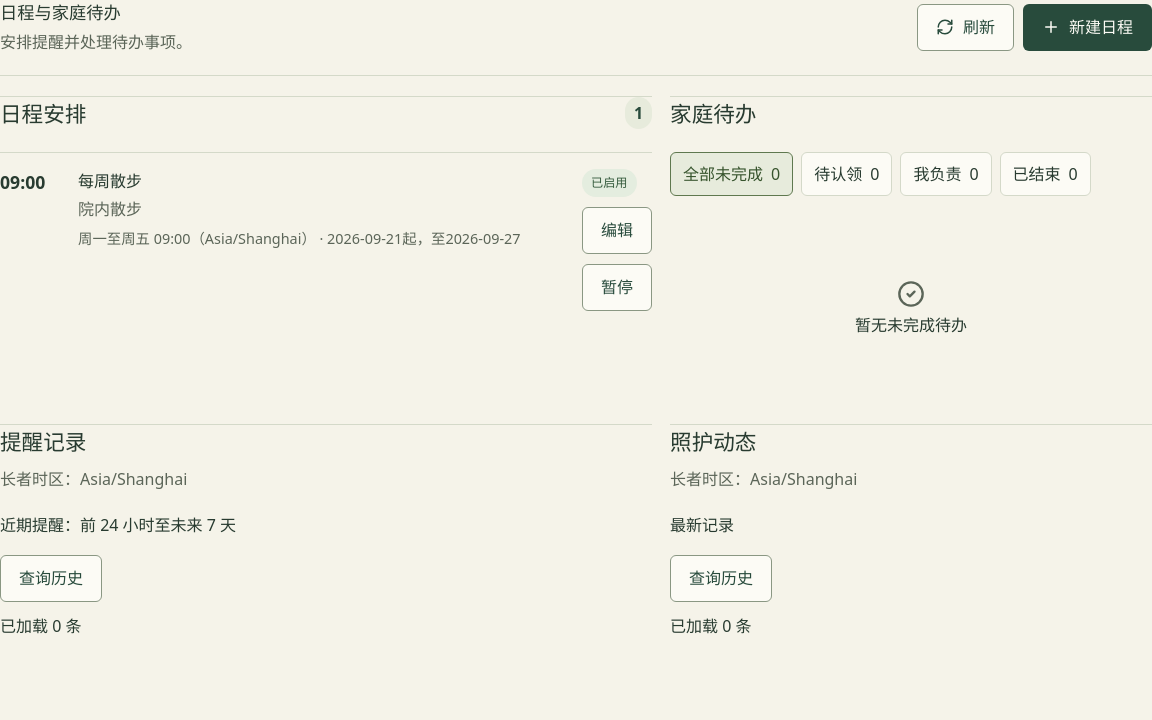
Test: independent routine and task loading › discards an old successful receipt and shows the authoritative current version
Click the button "暂停": (617, 287) [582,264,652,311]
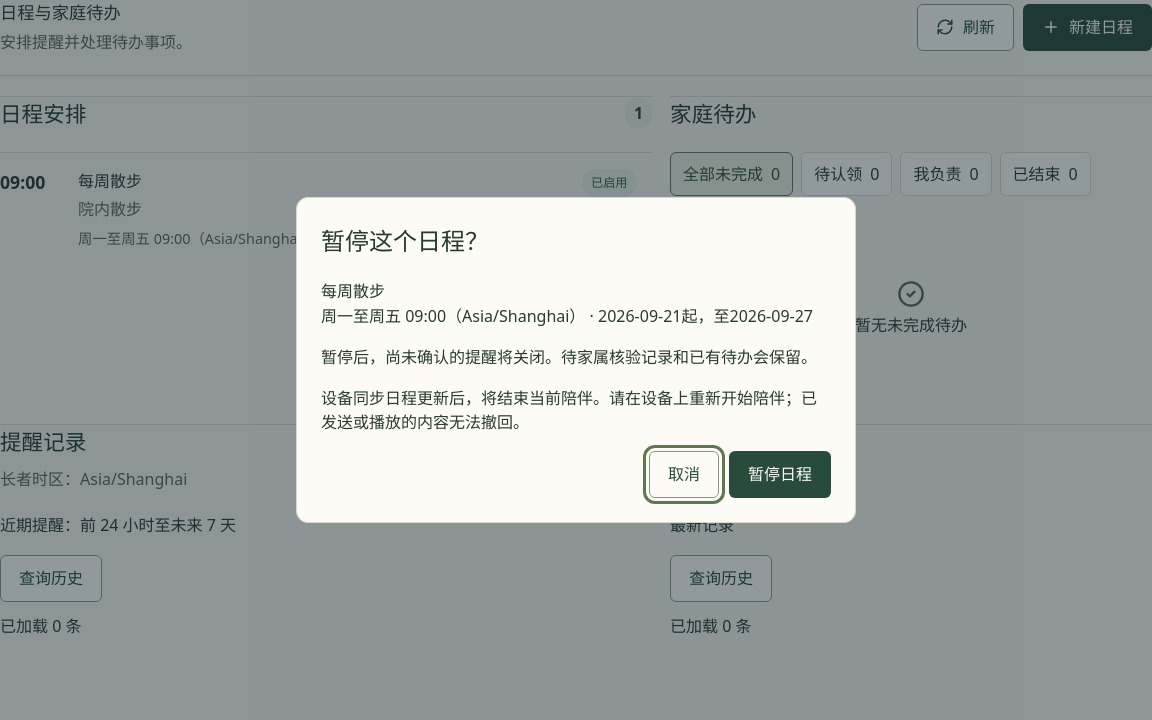
Expected: the button "暂停日程" is shown
Click the button "暂停日程": (780, 474) [729,451,831,498]
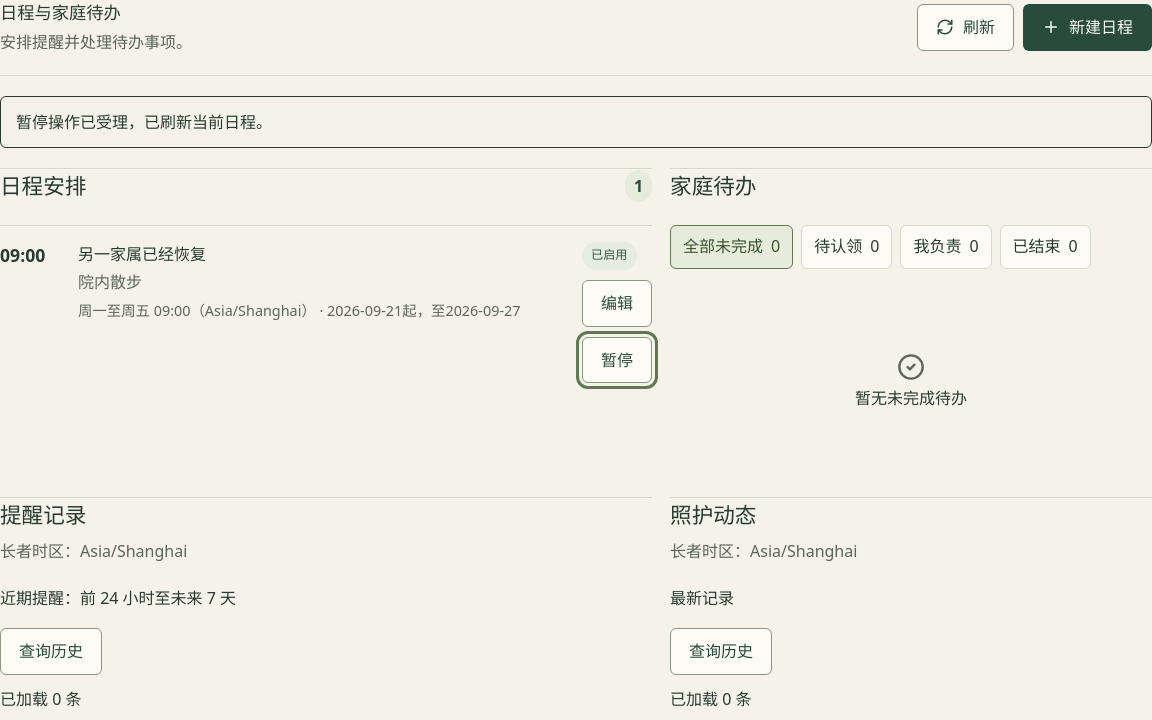
Expected: the text "已启用" is shown, [582,242,636,270]
Expected: the text "另一家属已经恢复" is shown, [78,243,206,265]
